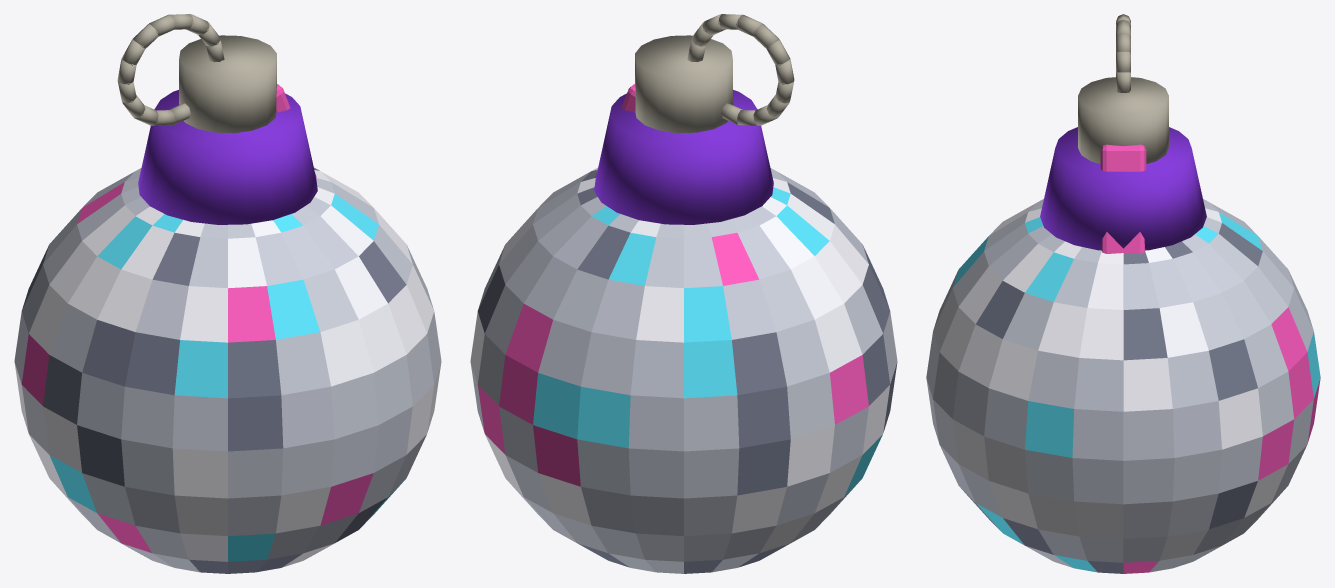
File: boogie_bomb.obj
3 renders of one model, left to right at view 1: azimuth 30°, elevation 25°; view 2: azimuth 150°, elevation 25°; view 3: azimuth 270°, elevation 25°, orthographic. The views are drawn at different scales.
Size of the model in its own units: 0.26 by 0.372 by 0.26.
